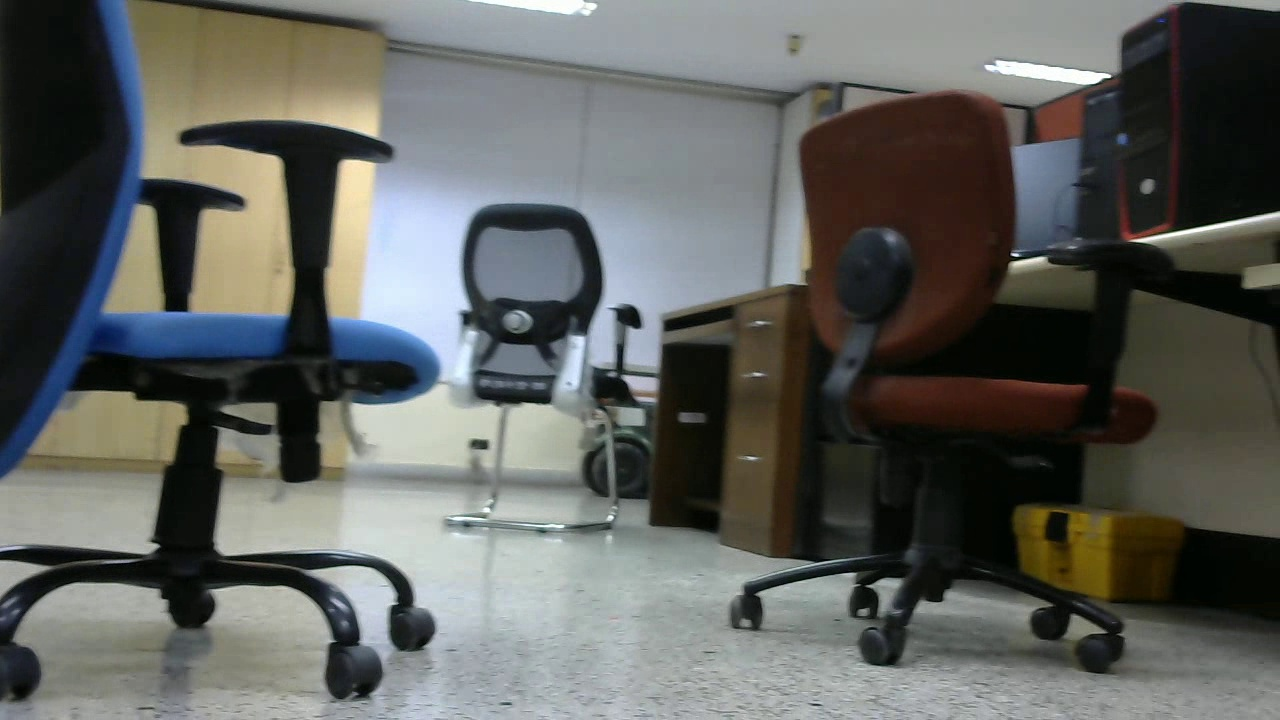chair: (31, 12, 442, 693), (744, 79, 1135, 655), (450, 198, 629, 529)
